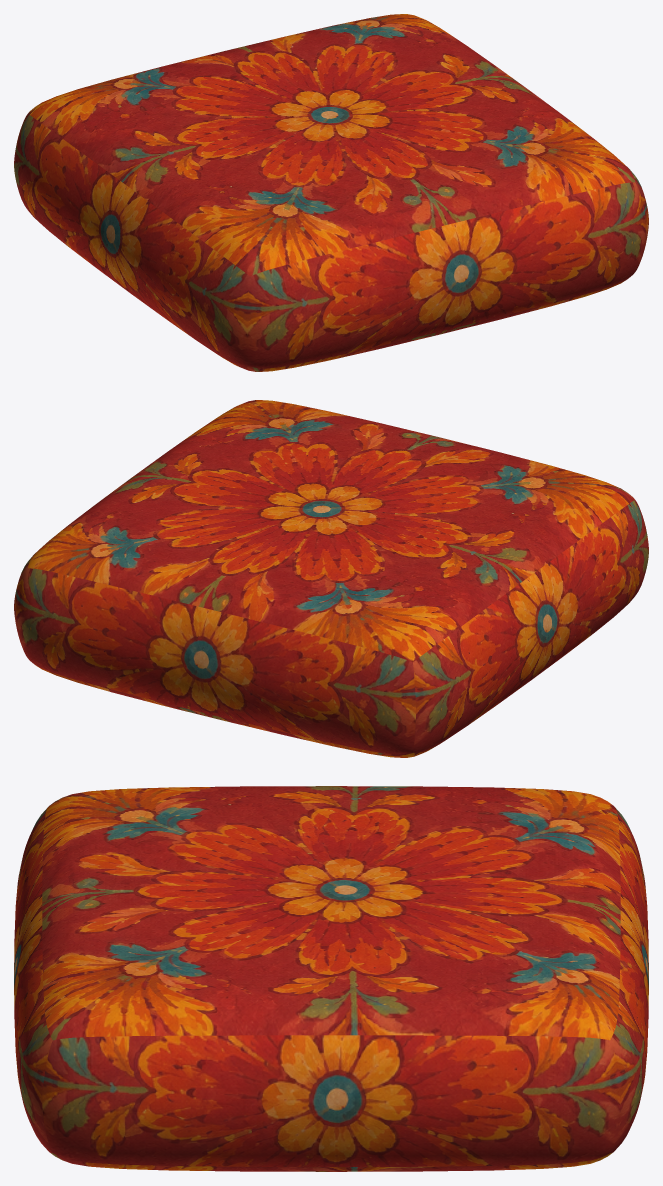
Rendered from coussin-rouge.glb.
3 views of the same model, one above another, from view 1: azimuth 30°, elevation 25°; view 2: azimuth 150°, elevation 25°; view 3: azimuth 270°, elevation 25° (orthographic). The views are drawn at different scales.
Parts seen in each view (by area): view 1: Cube; view 2: Cube; view 3: Cube.
Part boxes in pixels (x1,y1,x2,y2): Cube: (14, 14, 648, 371); Cube: (14, 400, 648, 757); Cube: (14, 786, 648, 1171).
Size of the model in its own units: 0.4984 by 0.1584 by 0.4984.
Materials: 1 (1 with a texture image).
